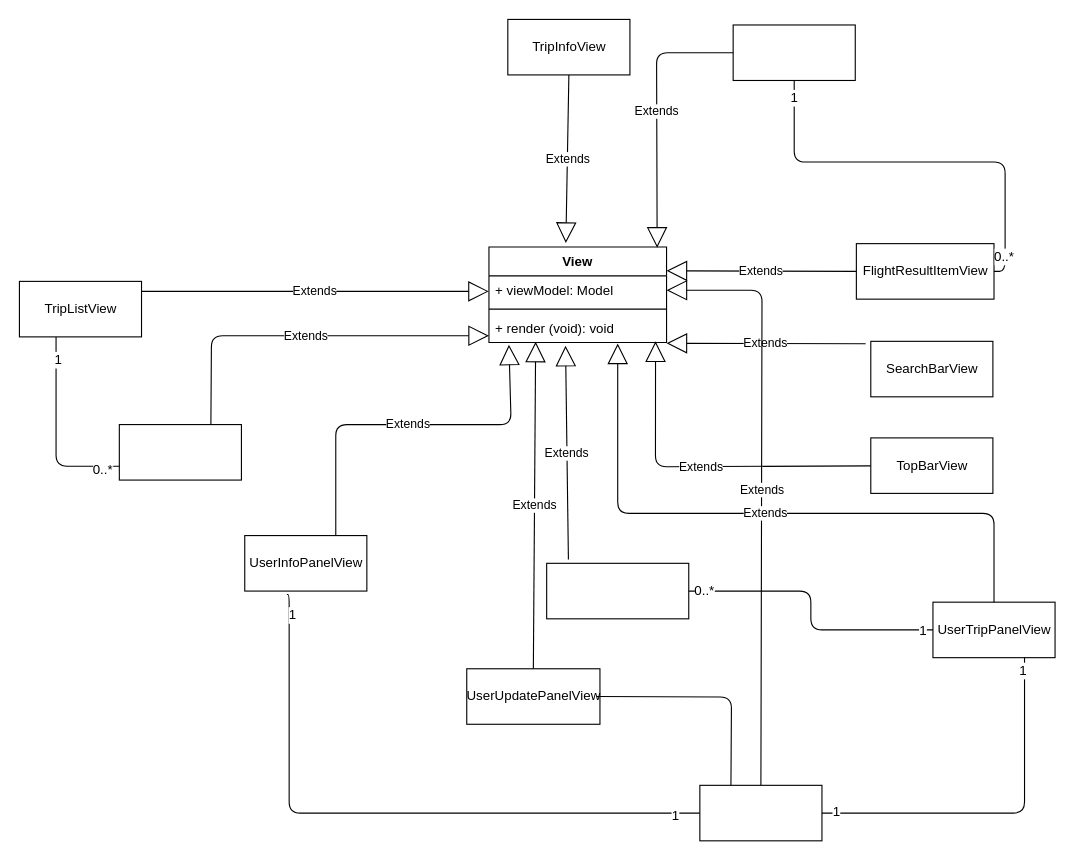
This 1074x860 diagram has some shape labels left out. Each missing label, with the centre of its shape:
FlightBarView: point (793, 52)
TripListItemView: point (179, 451)
UserPanelView: point (760, 812)
UserTripPanelItemView: point (617, 590)
